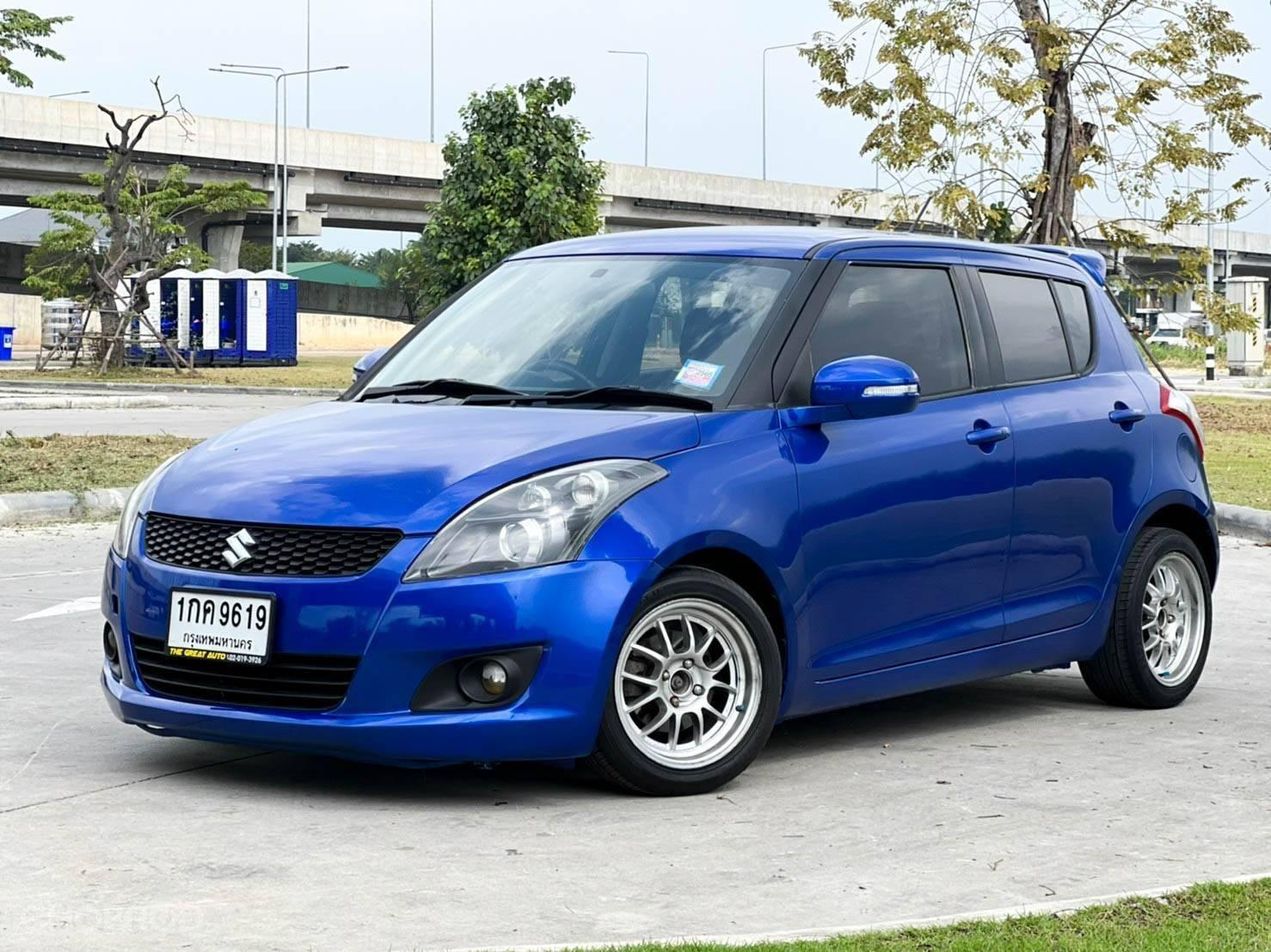license-plate: (167, 584, 278, 665)
